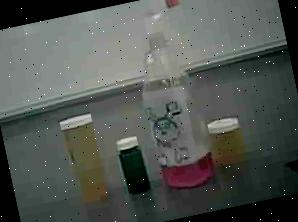Bottle A: (53, 104, 115, 211)
Bottle B: (202, 107, 254, 169)
Bottle C: (108, 128, 158, 200)
hazard: (119, 0, 218, 195)
